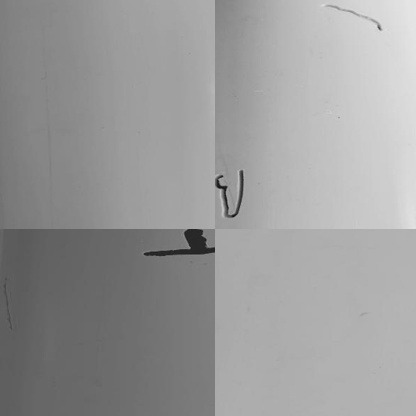fengxi: (213, 169, 250, 222), (325, 4, 390, 34), (143, 249, 219, 261)
kongdong: (185, 225, 210, 249)
